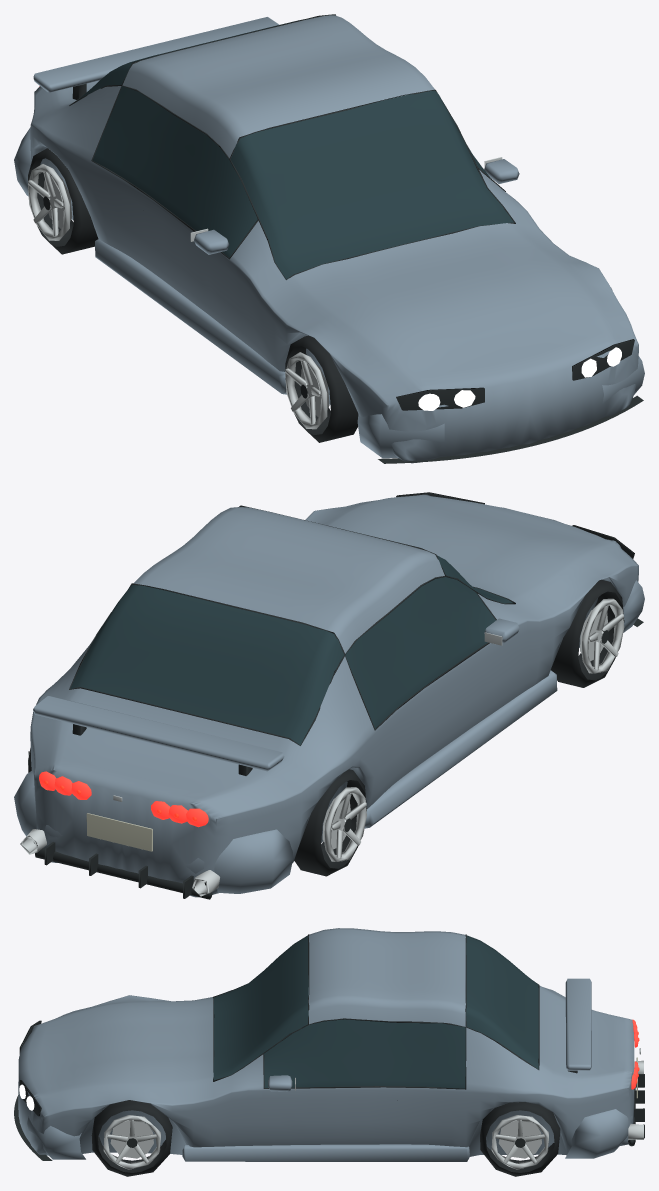
File: renvyx-mireth.glb
The picture shows the model from 3 angles, top to bottom: view 1: azimuth 30°, elevation 25°; view 2: azimuth 150°, elevation 25°; view 3: azimuth 270°, elevation 25°; orthographic projection. The views are drawn at different scales.
Parts seen in each view (by area): view 1: scocca, cristallo_ant, cofano, tetto, cristallo_sx, porta_sx, minigonna_sx, spoiler, ruota_ant_sx_gomma, paraurti_ant, ruota_post_sx_gomma, ruota_ant_sx_cerchio (+12 smaller); view 2: scocca, cristallo_post, tetto, cofano, portellone, cristallo_sx, porta_sx, spoiler, paraurti_post, minigonna_sx, ruota_ant_sx_gomma, ruota_post_sx_gomma (+9 smaller); view 3: scocca, cofano, tetto, porta_dx, cristallo_dx, cristallo_ant, cristallo_post, portellone, minigonna_dx, spoiler, paraurti_post, ruota_ant_dx_gomma (+12 smaller).
Boxes of the visible parts, box(x1,y1,x2,y2) form: scocca: box(30, 86, 638, 463); cristallo_ant: box(230, 90, 513, 279); cofano: box(286, 223, 614, 382); tetto: box(122, 15, 434, 157); cristallo_sx: box(92, 86, 257, 257); porta_sx: box(91, 161, 244, 342); minigonna_sx: box(95, 239, 286, 394); spoiler: box(33, 17, 279, 92); ruota_ant_sx_gomma: box(285, 335, 358, 442); paraurti_ant: box(357, 356, 644, 458); ruota_post_sx_gomma: box(28, 148, 98, 254); ruota_ant_sx_cerchio: box(285, 352, 327, 429); scocca: box(30, 494, 638, 897); cristallo_post: box(70, 584, 344, 745); tetto: box(133, 507, 444, 653); cofano: box(324, 496, 613, 603); portellone: box(48, 688, 300, 807); cristallo_sx: box(345, 577, 495, 728); porta_sx: box(368, 635, 516, 807); spoiler: box(33, 696, 284, 771); paraurti_post: box(14, 770, 292, 893); minigonna_sx: box(364, 670, 557, 828); ruota_ant_sx_gomma: box(551, 579, 624, 687); ruota_post_sx_gomma: box(294, 769, 366, 876); scocca: box(18, 987, 634, 1156); cofano: box(41, 997, 213, 1097); tetto: box(308, 928, 465, 1026); porta_dx: box(248, 1087, 465, 1147); cristallo_dx: box(264, 1019, 465, 1088); cristallo_ant: box(213, 935, 308, 1080); cristallo_post: box(466, 935, 538, 1069); portellone: box(539, 986, 634, 1082); minigonna_dx: box(182, 1144, 469, 1161); spoiler: box(565, 978, 591, 1070); paraurti_post: box(565, 1109, 632, 1158); ruota_ant_dx_gomma: box(91, 1100, 172, 1176).
Size of the model in its own units: 2.27 by 1.5 by 5.27.
